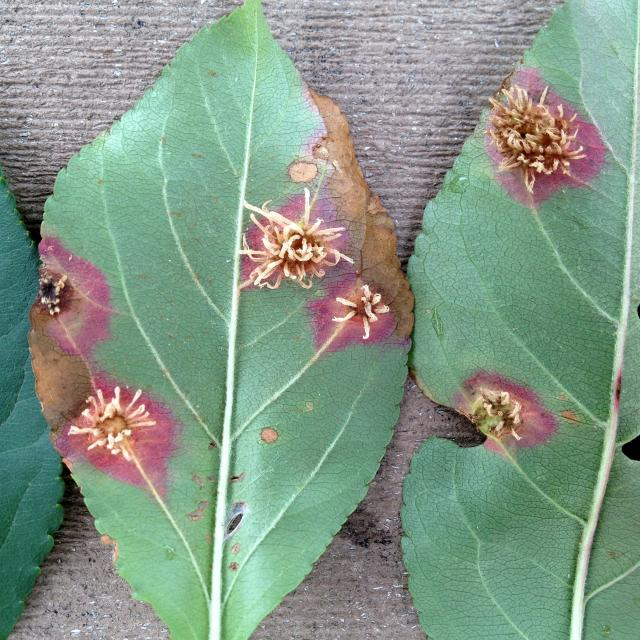Gymnosporangium_Rusts: (20, 62, 640, 485)
